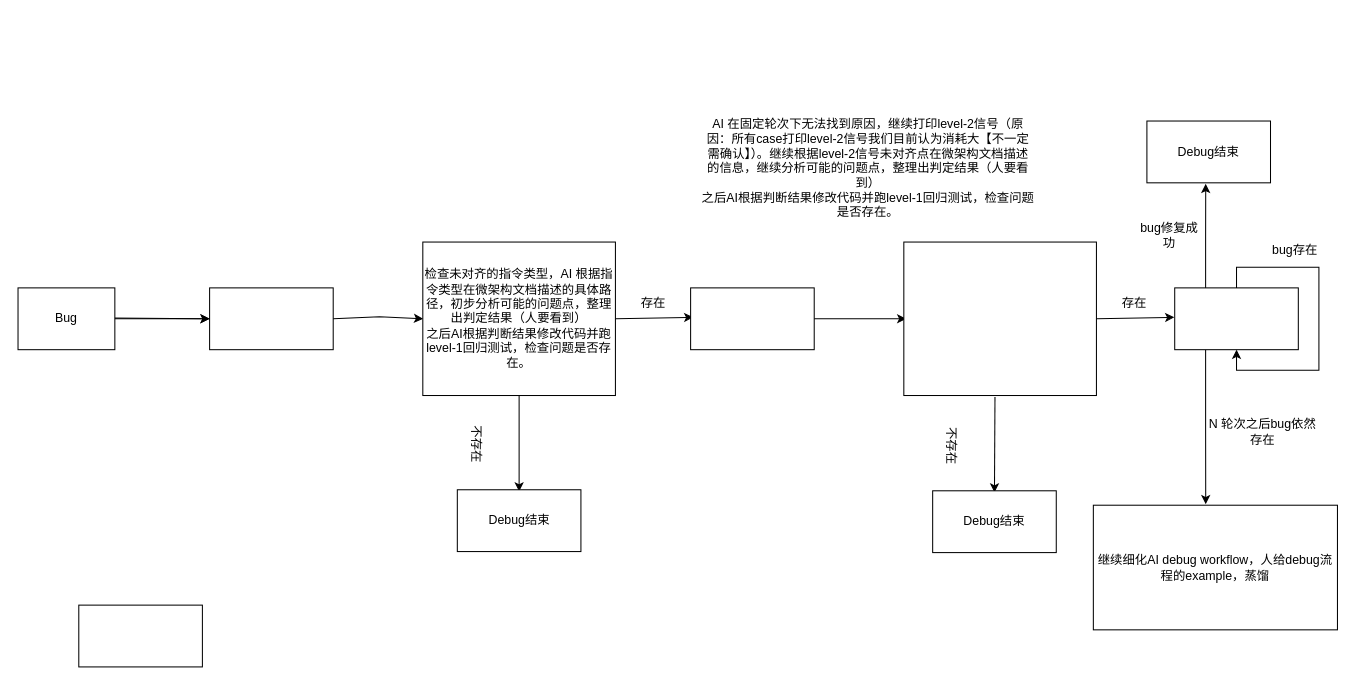
This 1355x685 diagram has some shape labels left out. The centre of each missing label's shape, as x and y in pixels:
"level-1 level-2 信号待补充" belongs at [140,635].
"Level_1 信号比较 目前仅比较Commit 阶段" belongs at [271,318].
"存在level-N 信号，重复过程" belongs at [1236,318].
